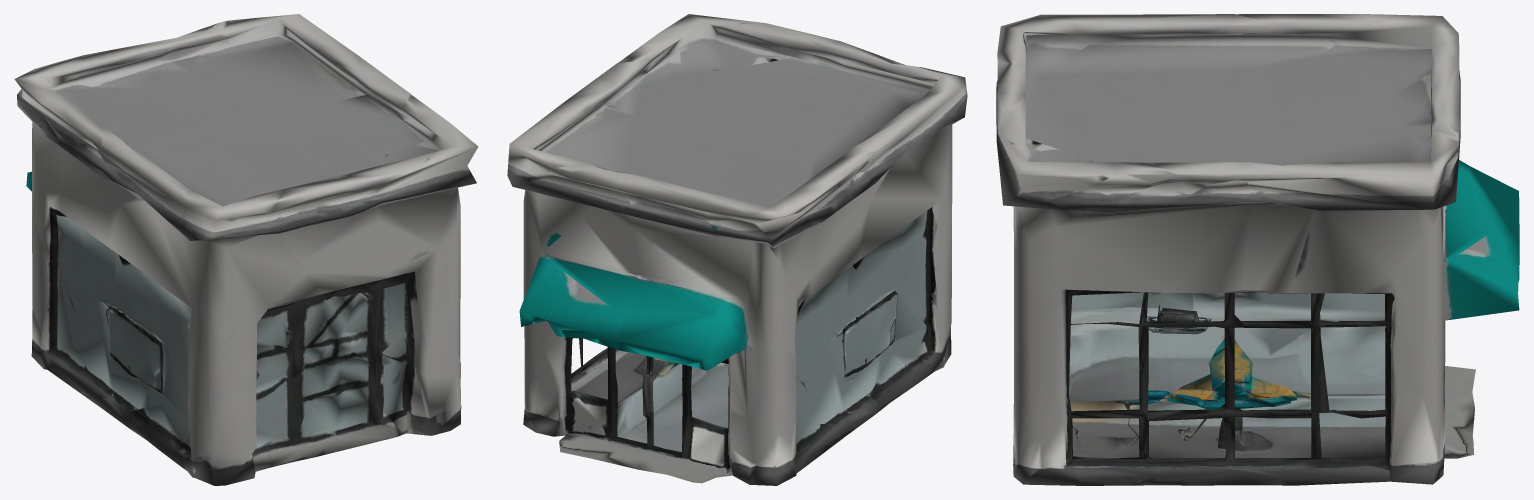
File: building.glb
3 views of the same model, side by side, from view 1: azimuth 30°, elevation 25°; view 2: azimuth 150°, elevation 25°; view 3: azimuth 270°, elevation 25° (orthographic). The views are drawn at different scales.
Parts seen in each view (by area): view 1: tripo_node_7fff9080-b008-46da-98b8-63f134b99246; view 2: tripo_node_7fff9080-b008-46da-98b8-63f134b99246; view 3: tripo_node_7fff9080-b008-46da-98b8-63f134b99246.
Boxes of the visible parts, left/top/right/bottom form: tripo_node_7fff9080-b008-46da-98b8-63f134b99246: left=14, top=14, right=478, bottom=485; tripo_node_7fff9080-b008-46da-98b8-63f134b99246: left=507, top=14, right=967, bottom=485; tripo_node_7fff9080-b008-46da-98b8-63f134b99246: left=996, top=14, right=1519, bottom=485.
Size of the model in its own units: 0.7112 by 0.6646 by 0.9794.
Materials: 1 (1 with a texture image).
